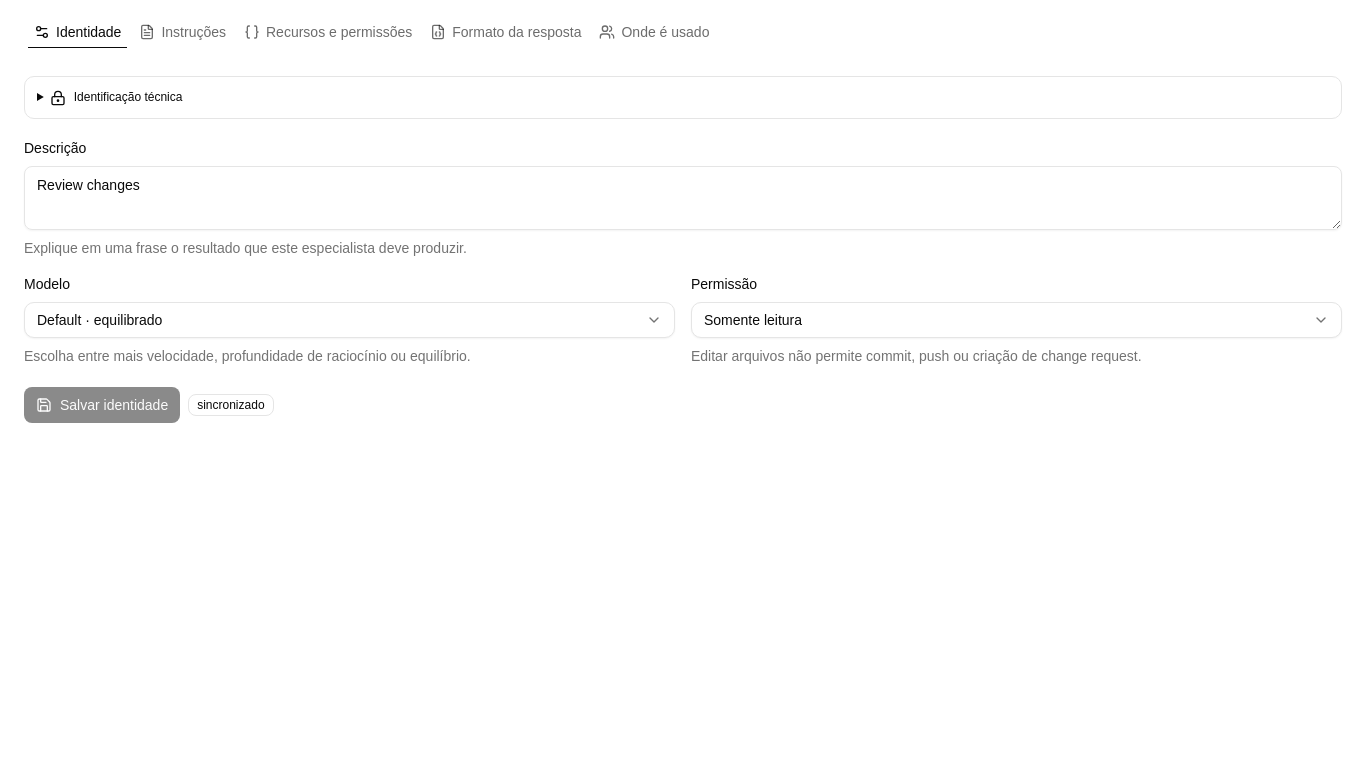
AgentStructuredEditor › uses canonical mode authority to block write tools for read-only agents
Click the tab "Recursos e permissões" at [328, 32], box [237,20,419,44]
(page scrolled)
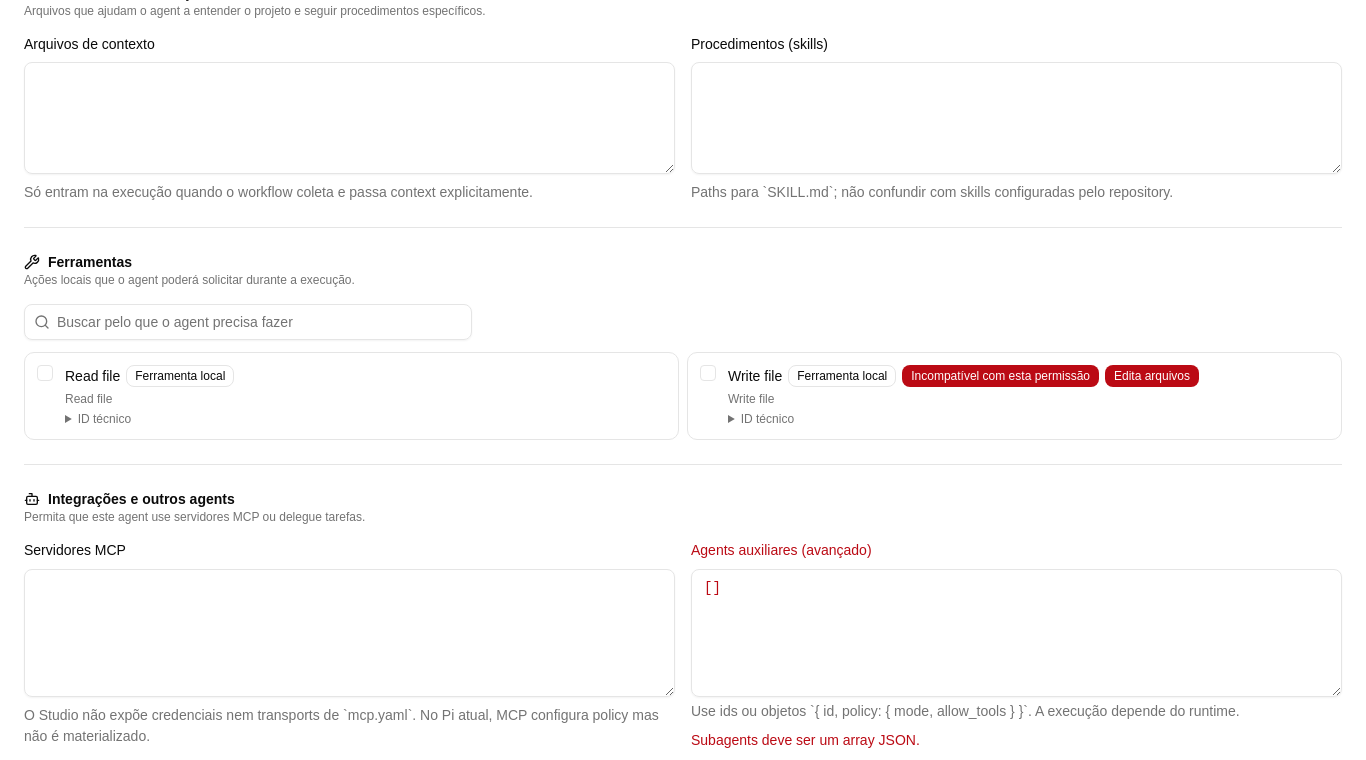
Expected: the text "Edita arquivos" is shown, [1105,365,1199,387]
